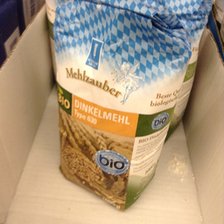flour: (50, 1, 205, 212)
